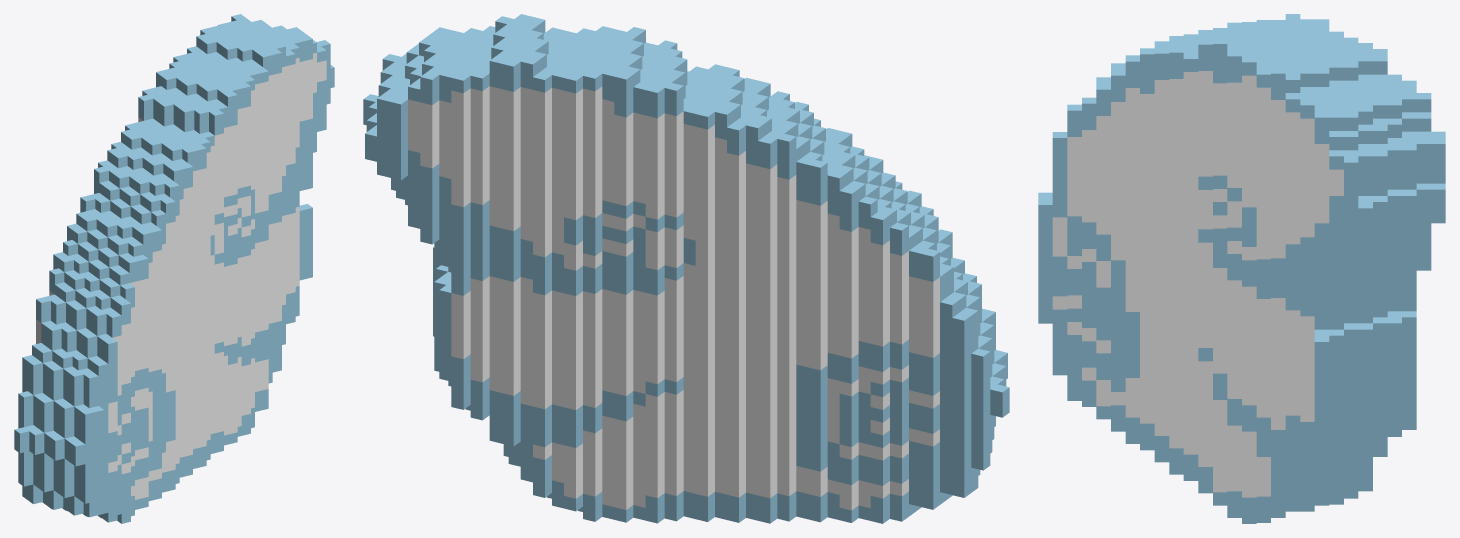
Rendered from wings-0.obj.
The picture shows the model from 3 angles, left to right: view 1: azimuth 30°, elevation 25°; view 2: azimuth 150°, elevation 25°; view 3: azimuth 270°, elevation 25°; orthographic projection. The views are drawn at different scales.
Bounding box in the file's own units: 4.3 × 3.6 × 2.8.
Materials: 1 (1 with a texture image).
